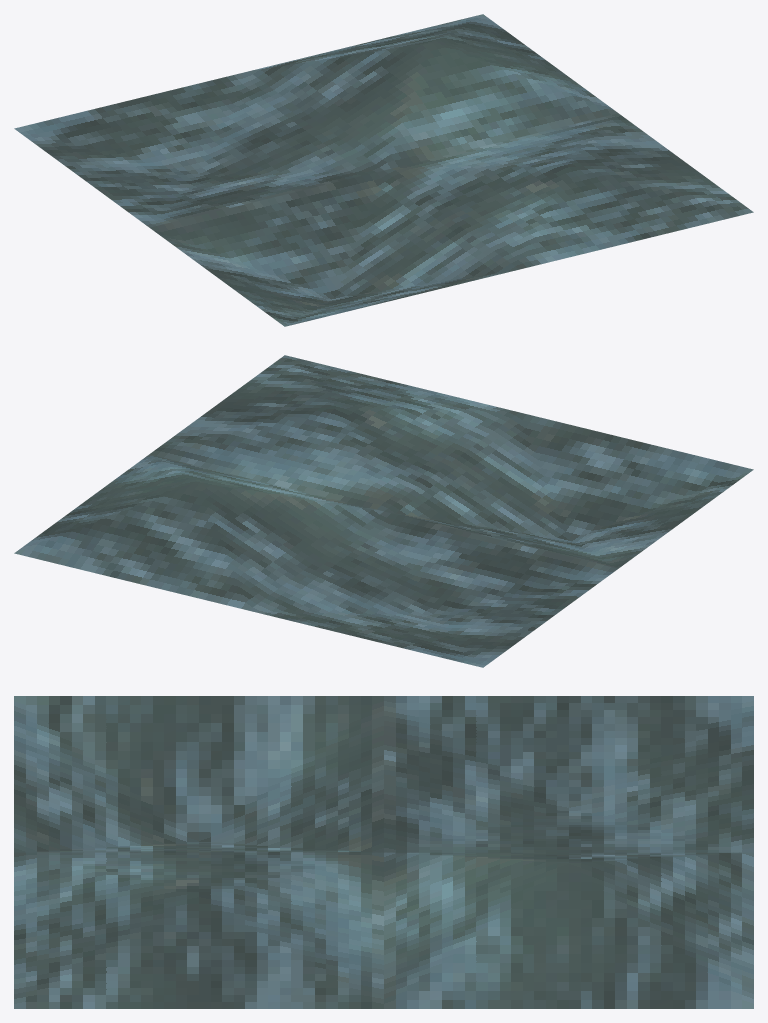
Rendered from kenney_water.glb.
The picture shows the model from 3 angles, top to bottom: view 1: azimuth 30°, elevation 25°; view 2: azimuth 150°, elevation 25°; view 3: azimuth 270°, elevation 25°; orthographic projection. The views are drawn at different scales.
Parts seen in each view (by area): view 1: water; view 2: water; view 3: water.
Part boxes in pixels (x1,y1,x2,y2): water: (14, 14, 753, 326); water: (14, 355, 753, 667); water: (14, 696, 753, 1008).
Bounding box in the file's own units: 2 × 0.4 × 2.
Materials: 1 (1 with a texture image).
